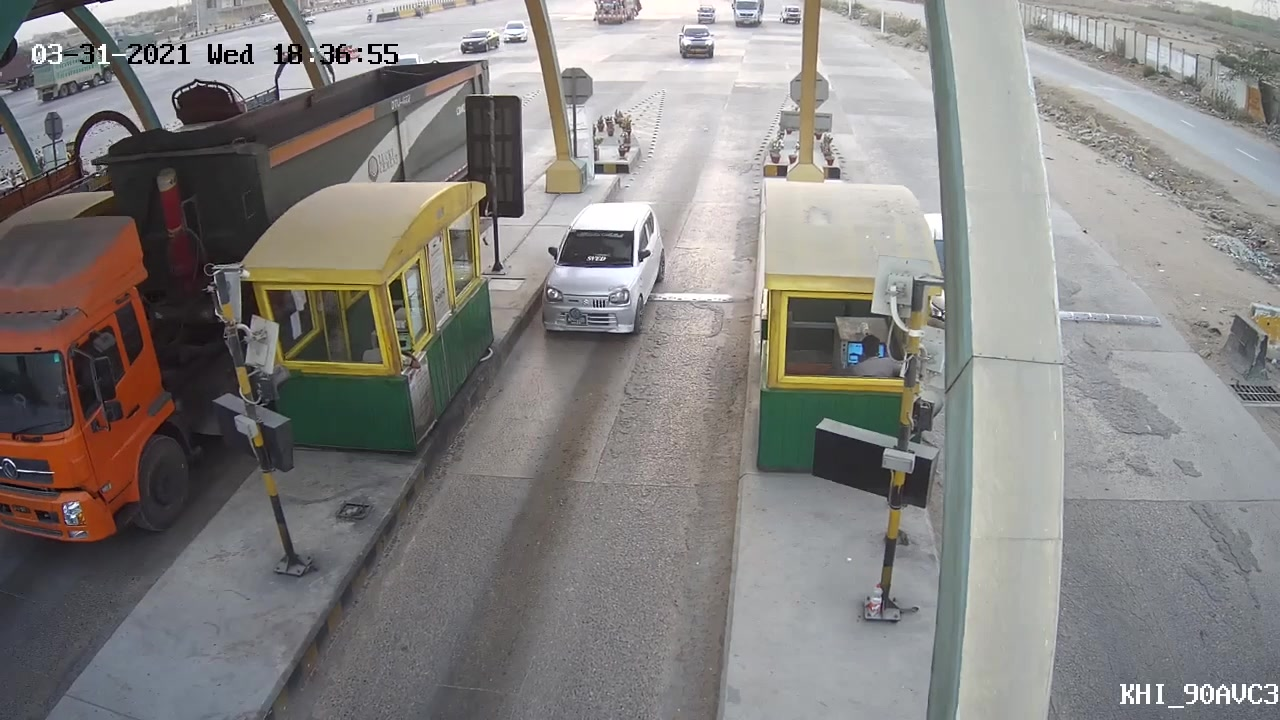F1: (529, 199, 681, 342)
